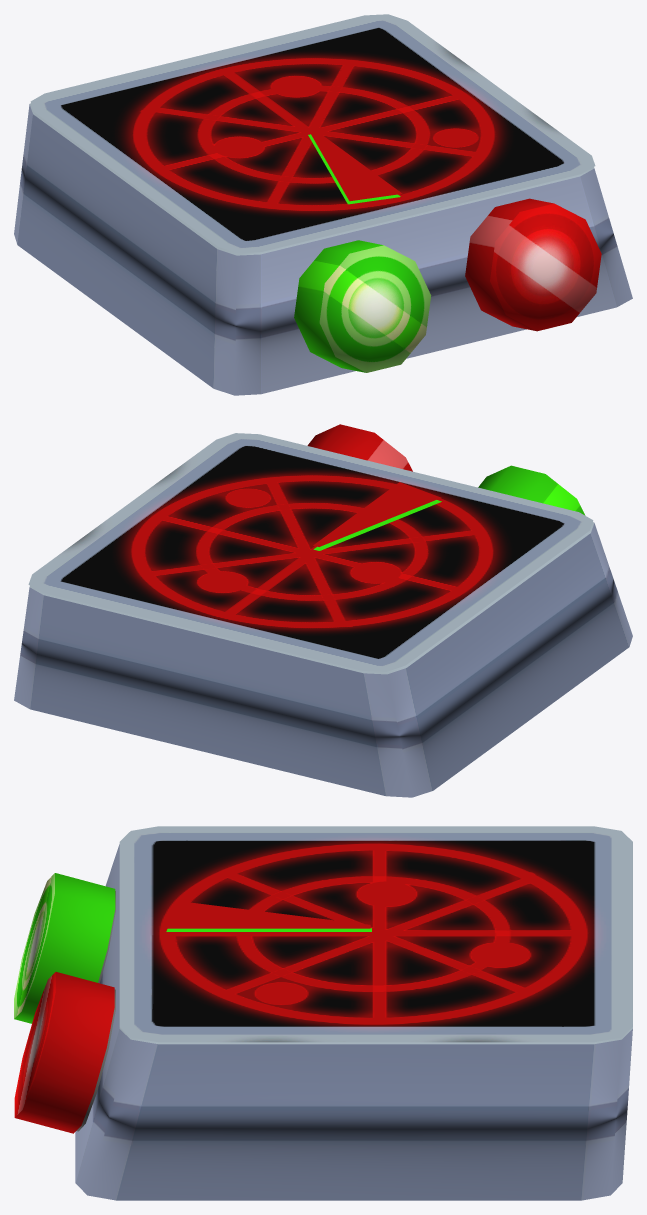
3 renders of one model, top to bottom at view 1: azimuth 30°, elevation 25°; view 2: azimuth 150°, elevation 25°; view 3: azimuth 270°, elevation 25°, orthographic. The views are drawn at different scales.
Visible parts, largest first — view 1: CamoTrapRedGEO, CamoTrapGEO, CamoTrapGreenLight, CamoTrapRedLight, CamoTrapRedSpinner; view 2: CamoTrapGEO, CamoTrapRedGEO, CamoTrapGreenLight, CamoTrapRedLight, CamoTrapRedSpinner, CamoTrapGreenSpinner; view 3: CamoTrapRedGEO, CamoTrapGEO, CamoTrapRedLight, CamoTrapGreenLight, CamoTrapRedSpinner, CamoTrapGreenSpinner.
Part boxes in pixels (bbox=[...]): CamoTrapRedGEO: bbox=[30, 14, 595, 253]; CamoTrapGEO: bbox=[14, 103, 632, 395]; CamoTrapGreenLight: bbox=[294, 240, 431, 372]; CamoTrapRedLight: bbox=[465, 198, 601, 331]; CamoTrapRedSpinner: bbox=[310, 130, 402, 201]; CamoTrapGEO: bbox=[14, 522, 632, 797]; CamoTrapRedGEO: bbox=[28, 433, 593, 671]; CamoTrapGreenLight: bbox=[478, 465, 585, 515]; CamoTrapRedLight: bbox=[307, 424, 412, 471]; CamoTrapRedSpinner: bbox=[313, 482, 441, 546]; CamoTrapGreenSpinner: bbox=[313, 500, 441, 550]; CamoTrapRedGEO: bbox=[119, 826, 632, 1042]; CamoTrapGEO: bbox=[75, 844, 632, 1200]; CamoTrapRedLight: bbox=[14, 972, 114, 1133]; CamoTrapGreenLight: bbox=[14, 873, 115, 1023]; CamoTrapRedSpinner: bbox=[165, 901, 370, 928]; CamoTrapGreenSpinner: bbox=[166, 928, 371, 931].
Bounding box in the file's own units: 15.36 × 4.55 × 16.72.
3 materials, 3 textured.
